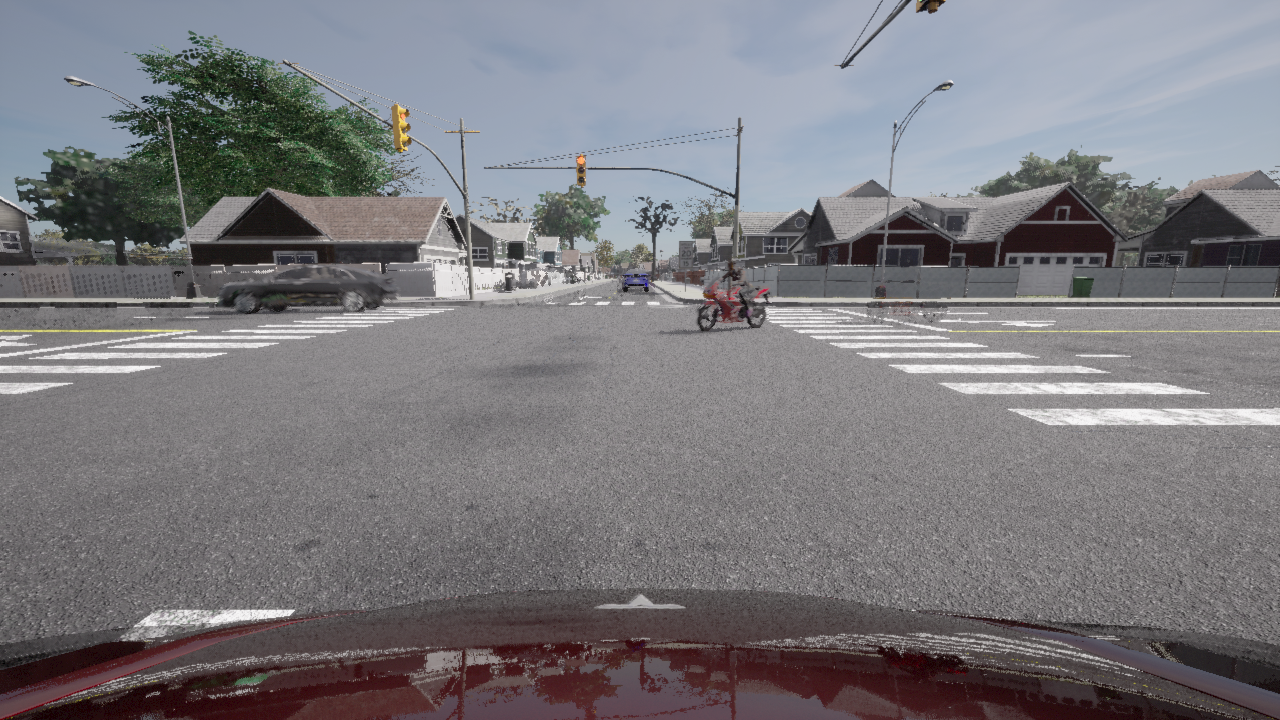cyclist: (0, 588, 1279, 719), (219, 263, 400, 314), (697, 275, 771, 331), (623, 270, 648, 290)
pedestrian: (339, 261, 342, 263)
